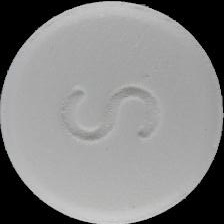68788-6333: (0, 0, 224, 224)
